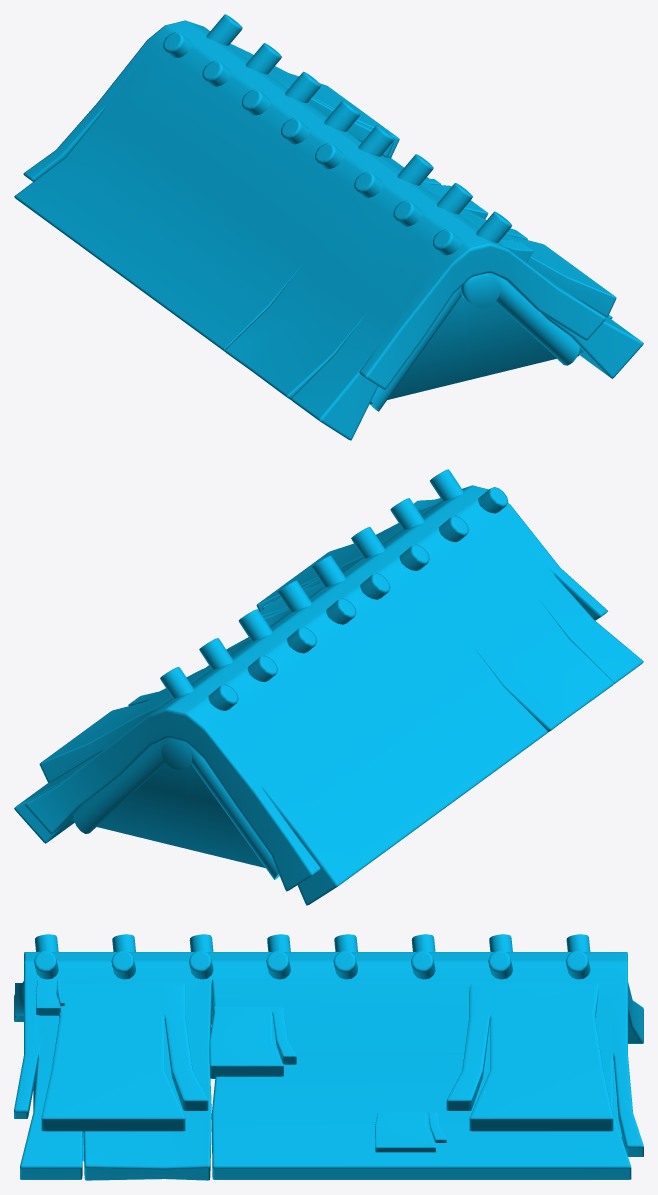
File: SM_Clay_Roof_03.fbx
3 views of the same model, one above another, from view 1: azimuth 30°, elevation 25°; view 2: azimuth 150°, elevation 25°; view 3: azimuth 270°, elevation 25° (orthographic).
Visible parts, largest first — view 1: SM_Clay_Roof_03; view 2: SM_Clay_Roof_03; view 3: SM_Clay_Roof_03.
Part boxes in pixels (<box>): SM_Clay_Roof_03: <box>14,14,643,440</box>; SM_Clay_Roof_03: <box>14,469,643,905</box>; SM_Clay_Roof_03: <box>14,934,643,1180</box>.
Bounding box in the file's own units: 2.39 × 1.29 × 4.06.
